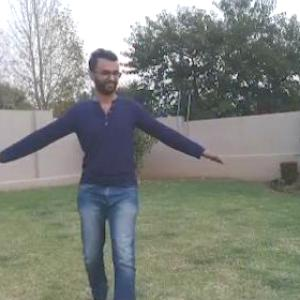land: (1, 27, 243, 299)
